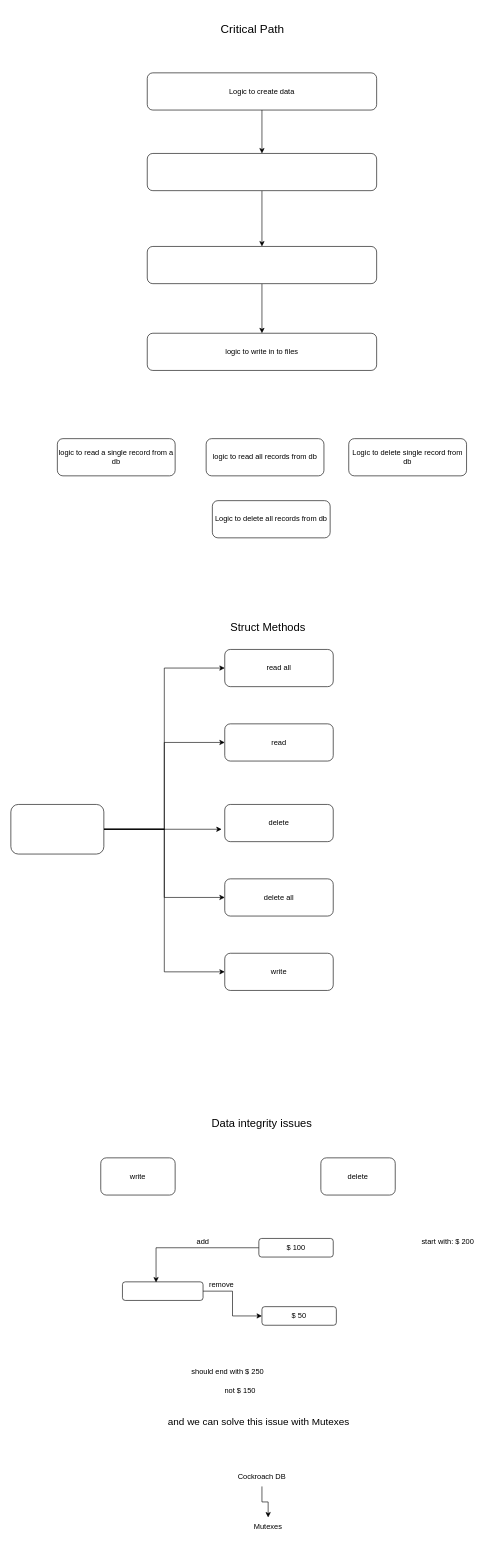
Image size: 493x1546. Some labels were removed from this diagram. Here are the shapes that lost their labels. From the top down, the box of each, then its label:
(147, 153, 377, 191): logic to write data to db
(147, 246, 377, 284): logic to create files
(10, 804, 104, 854): Driver
(122, 1281, 203, 1300): bank
